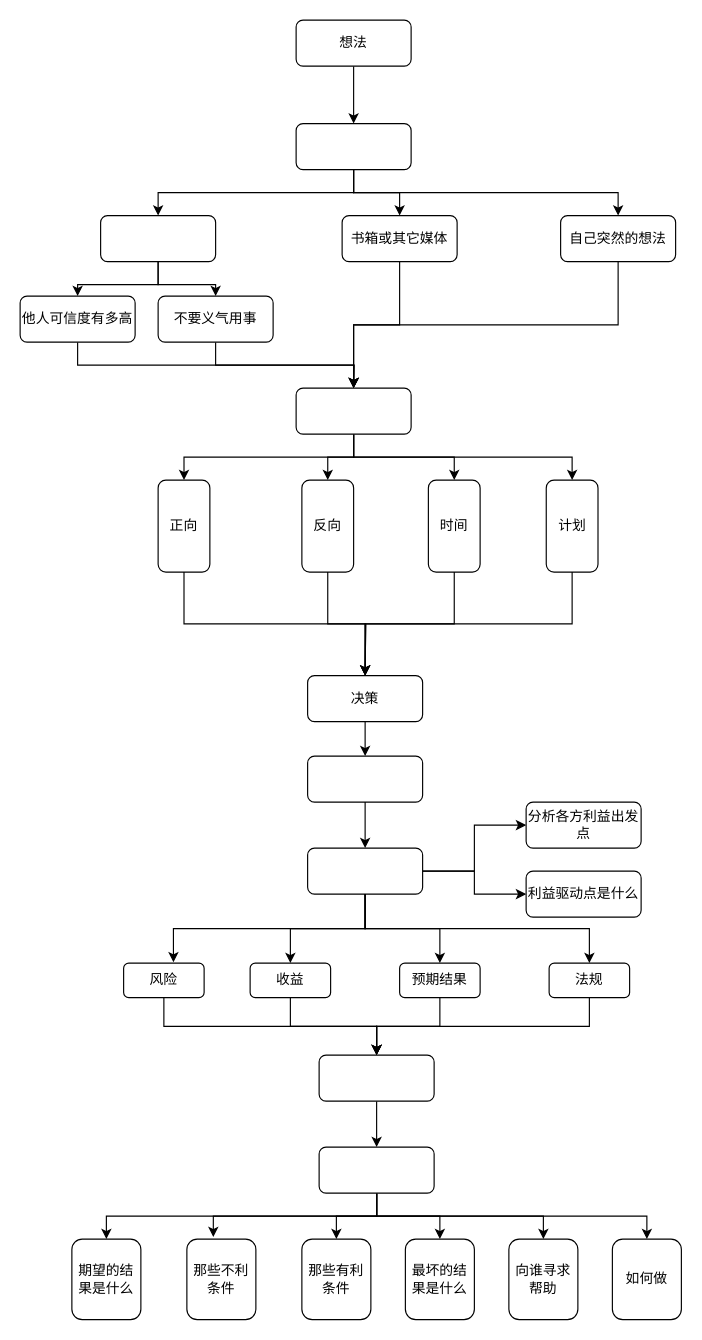
Image size: 702x1340. Some labels were removed from this diagram. The shapes that lost their labels are listed below. From the top down, each one's box as (x1, y1, x2, y2) in pixels, then its label:
(295, 122, 411, 170): 来源
(99, 214, 216, 262): 别人
(295, 387, 411, 434): 分析与论证
(306, 755, 423, 802): 仔细收集多方意见
(306, 847, 423, 894): 平衡各方利益
(318, 1054, 434, 1101): 实施中的监控与调整
(318, 1146, 434, 1193): 意外情况，冷静处理
